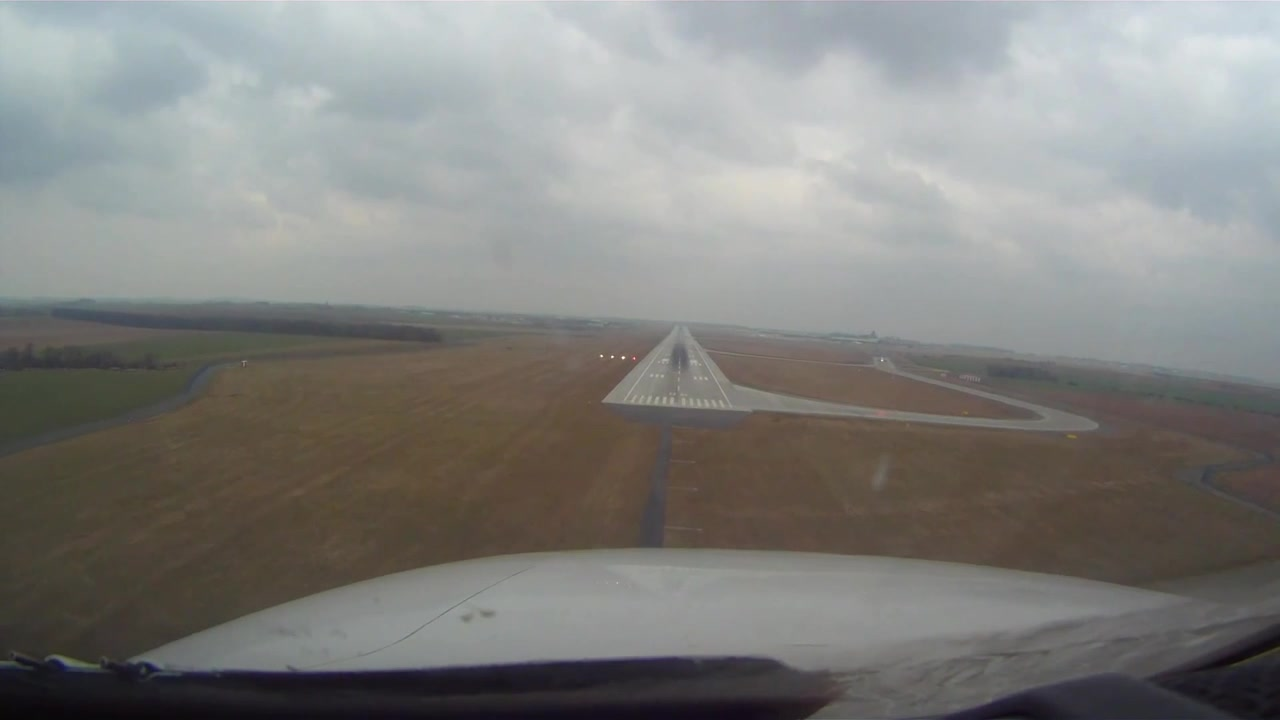entrance: (628, 393, 730, 408)
runway: (602, 325, 749, 410)
